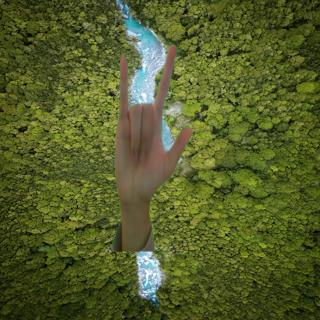ILY: (110, 43, 197, 211)
